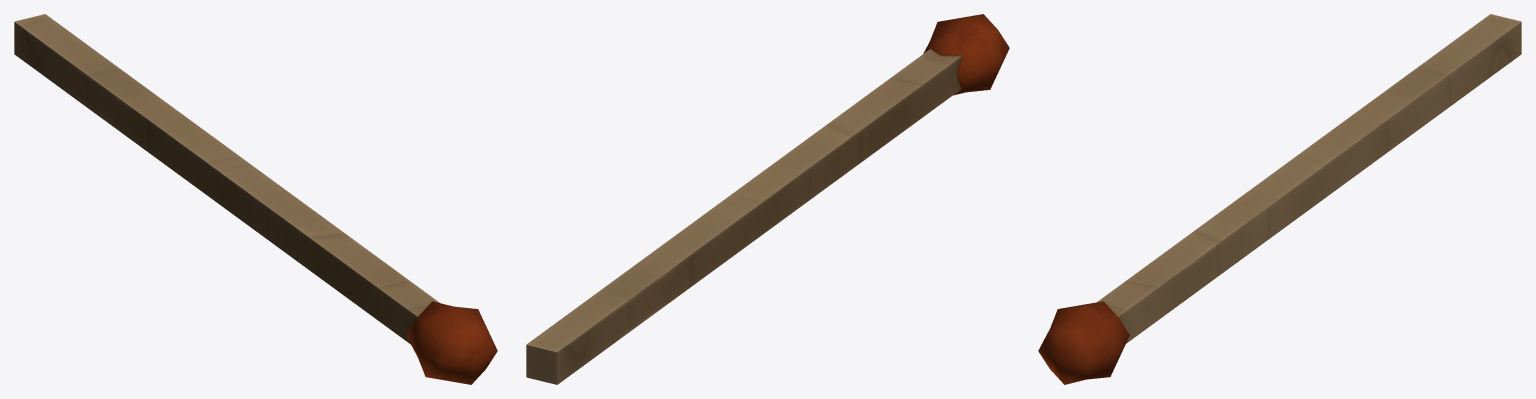
The model's file is MatchStick.fbx.
3 views of the same model, side by side, from view 1: azimuth 30°, elevation 25°; view 2: azimuth 150°, elevation 25°; view 3: azimuth 330°, elevation 25° (orthographic).
Parts seen in each view (by area): view 1: MatchStick; view 2: MatchStick; view 3: MatchStick.
Part boxes in pixels (box(x1,y1,x2,y2)): MatchStick: box(14, 14, 497, 384); MatchStick: box(526, 14, 1009, 384); MatchStick: box(1038, 14, 1521, 384).
Size of the model in its own units: 0.00669 by 0.00669 by 0.074.
